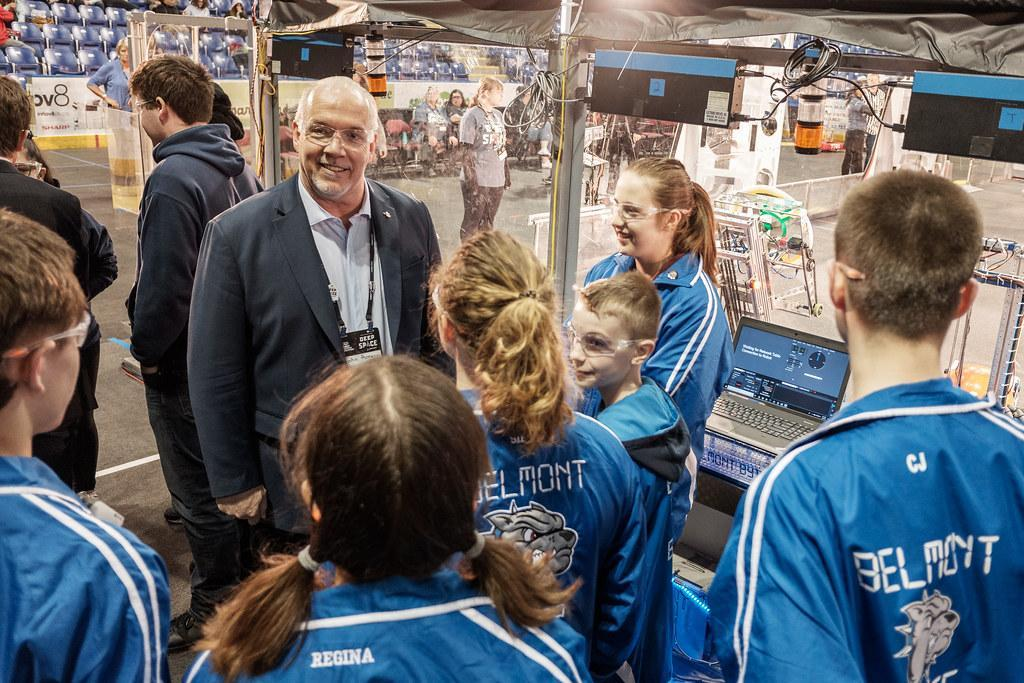robot: (684, 177, 826, 387)
